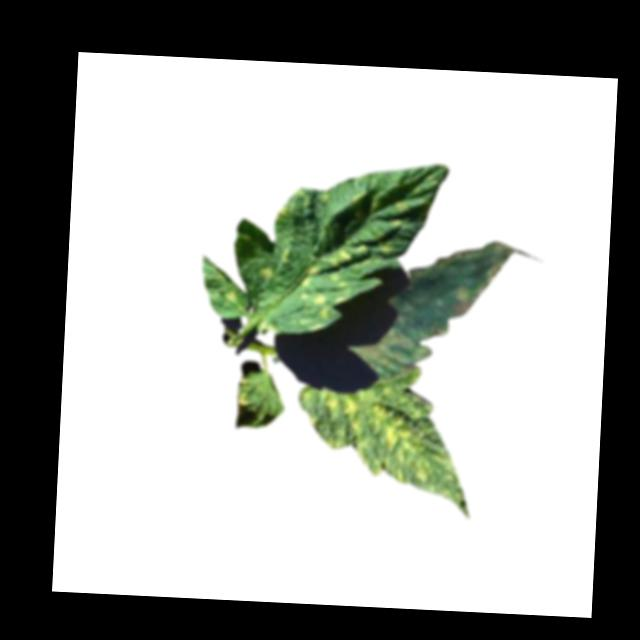Leaf_Mold: (273, 160, 434, 333), (295, 378, 475, 519), (362, 236, 513, 385), (250, 259, 275, 286), (220, 283, 239, 304)
